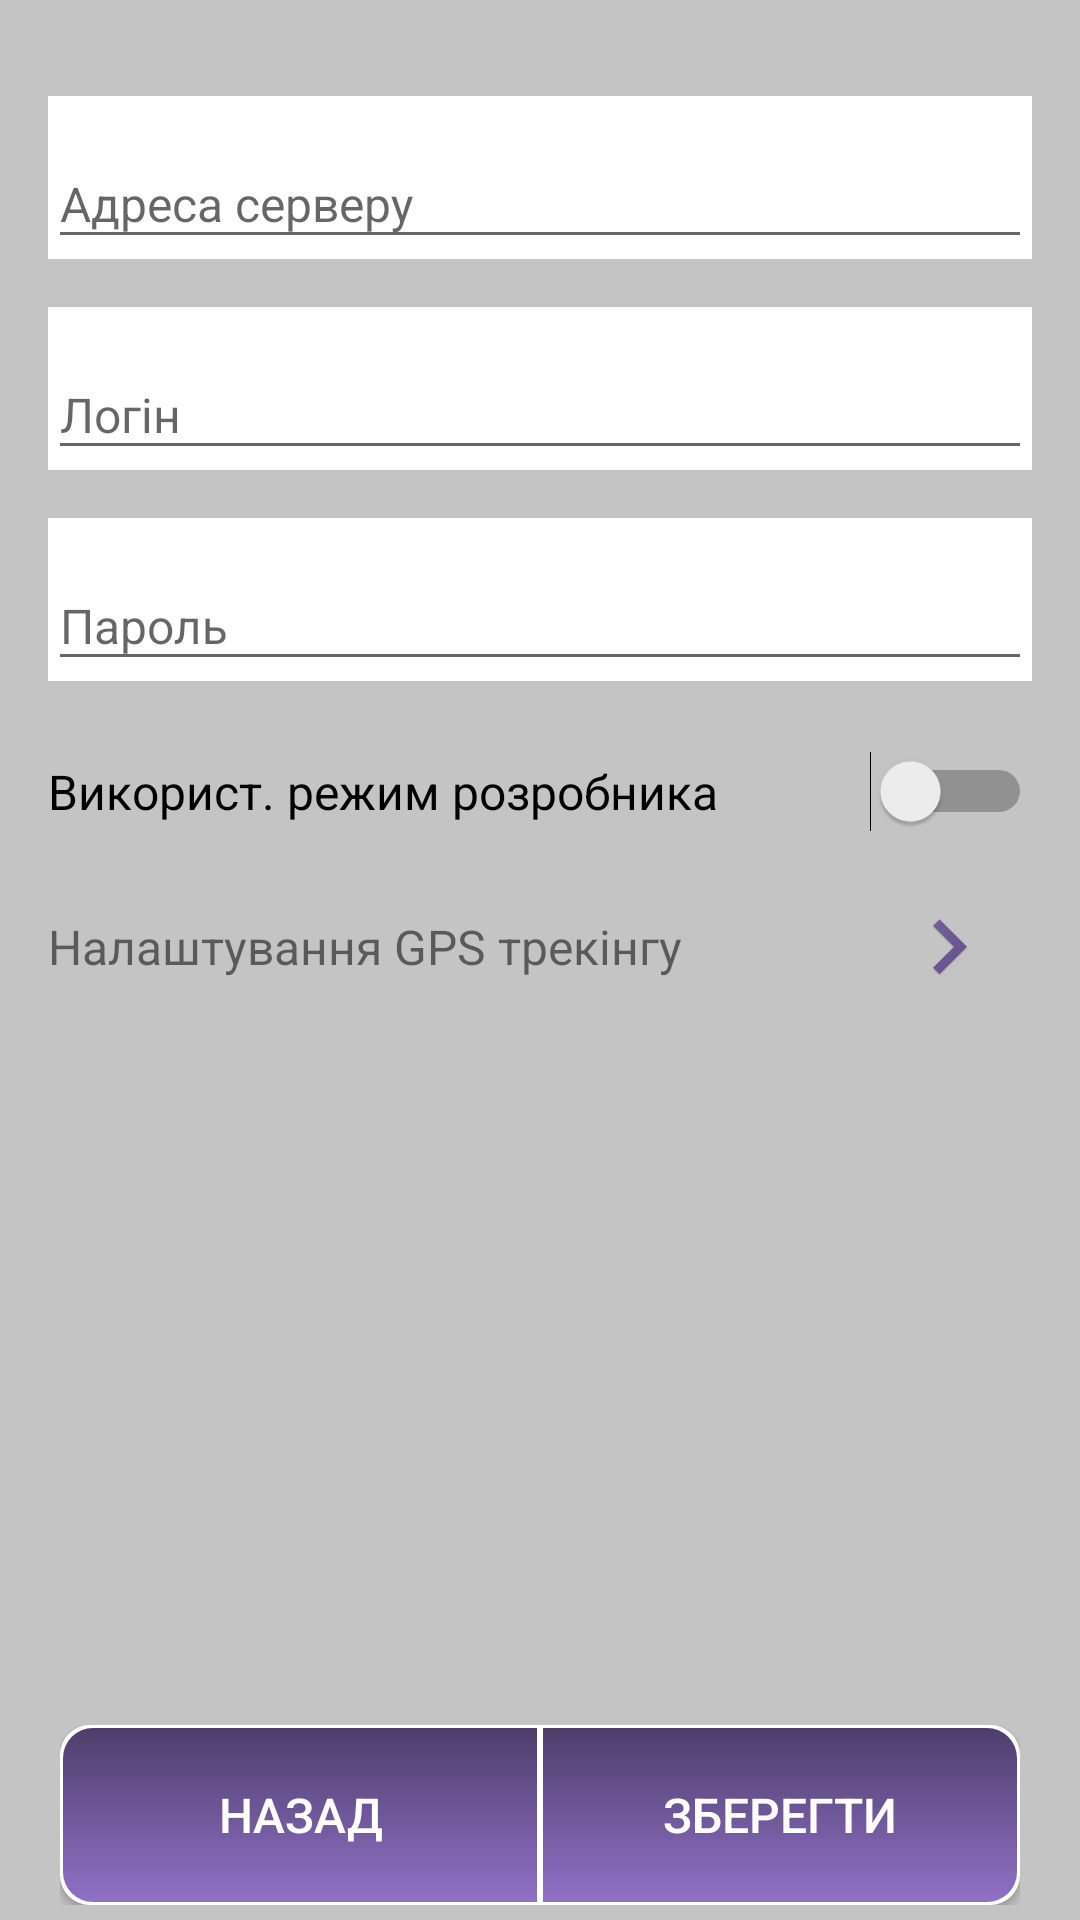

Named icons in this screenshot (1080×1920) and their bounding boxes, (x1, y1, x2, y2):
keyboard arrow right: (933, 919, 967, 974)
